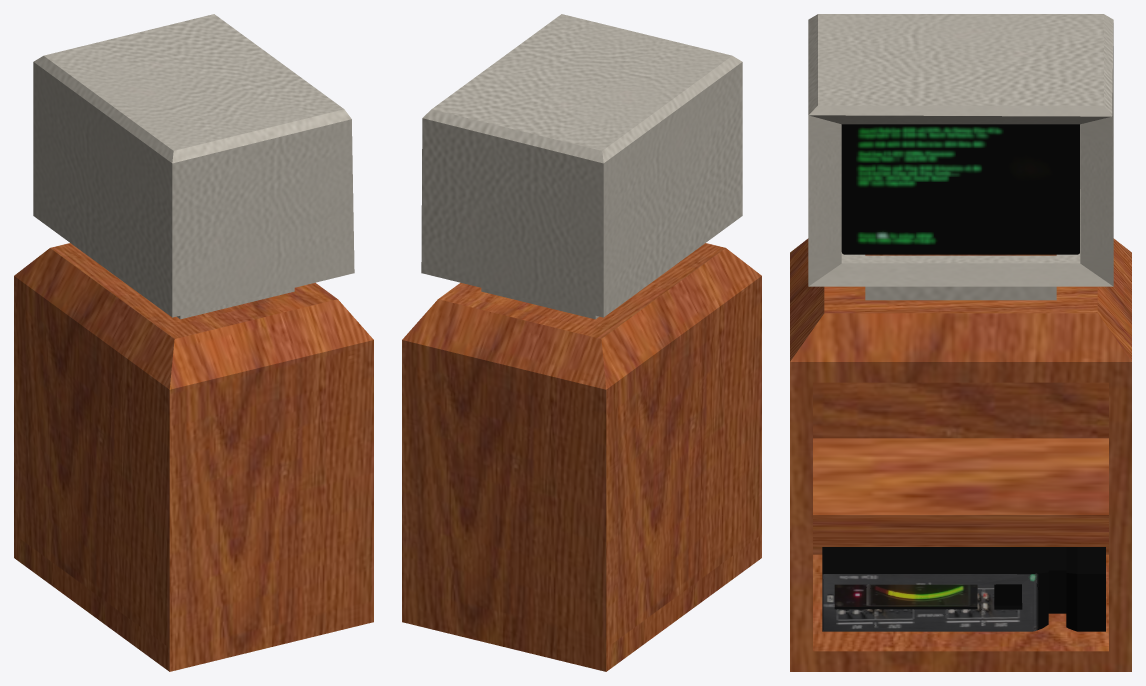
The model's file is monitor.obj.
The picture shows the model from 3 angles, left to right: view 1: azimuth 30°, elevation 25°; view 2: azimuth 150°, elevation 25°; view 3: azimuth 270°, elevation 25°; orthographic projection. The views are drawn at different scales.
Parts seen in each view (by area): view 1: Cube; view 2: Cube; view 3: Cube, Cube.001, Cube.002.
Part boxes in pixels (x1,y1,x2,y2): Cube: (14,14,373,671); Cube: (402,14,761,671); Cube: (790,14,1131,671); Cube.001: (813,438,1108,546); Cube.002: (822,547,1105,631).
Bounding box in the file's own units: 2.64 × 6.26 × 3.48.
